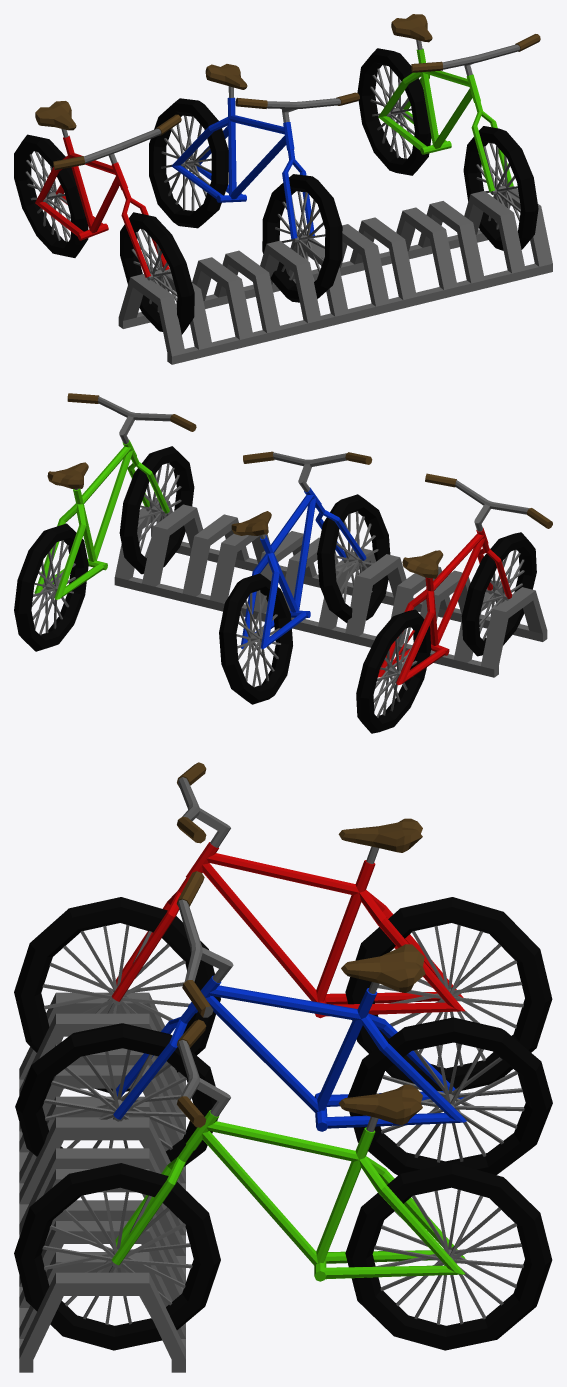
The model's file is Bike_Stand_Half.fbx.
3 views of the same model, one above another, from view 1: azimuth 30°, elevation 25°; view 2: azimuth 150°, elevation 25°; view 3: azimuth 270°, elevation 25° (orthographic). The views are drawn at different scales.
Parts seen in each view (by area): view 1: Bike Stand Half; view 2: Bike Stand Half; view 3: Bike Stand Half.
Part boxes in pixels (x1,y1,x2,y2): Bike Stand Half: (14, 14, 552, 364); Bike Stand Half: (14, 393, 552, 733); Bike Stand Half: (14, 762, 552, 1372).
Bounding box in the file's own units: 3.46 × 1.33 × 2.13.
